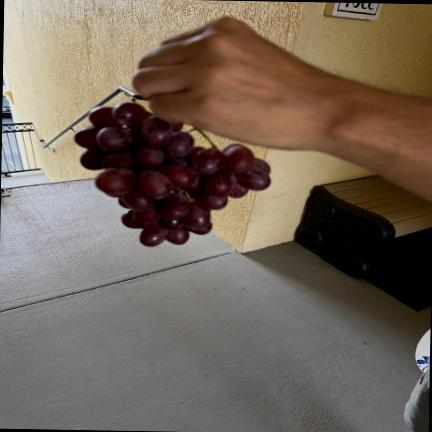grape_cluster: (75, 102, 270, 246)
